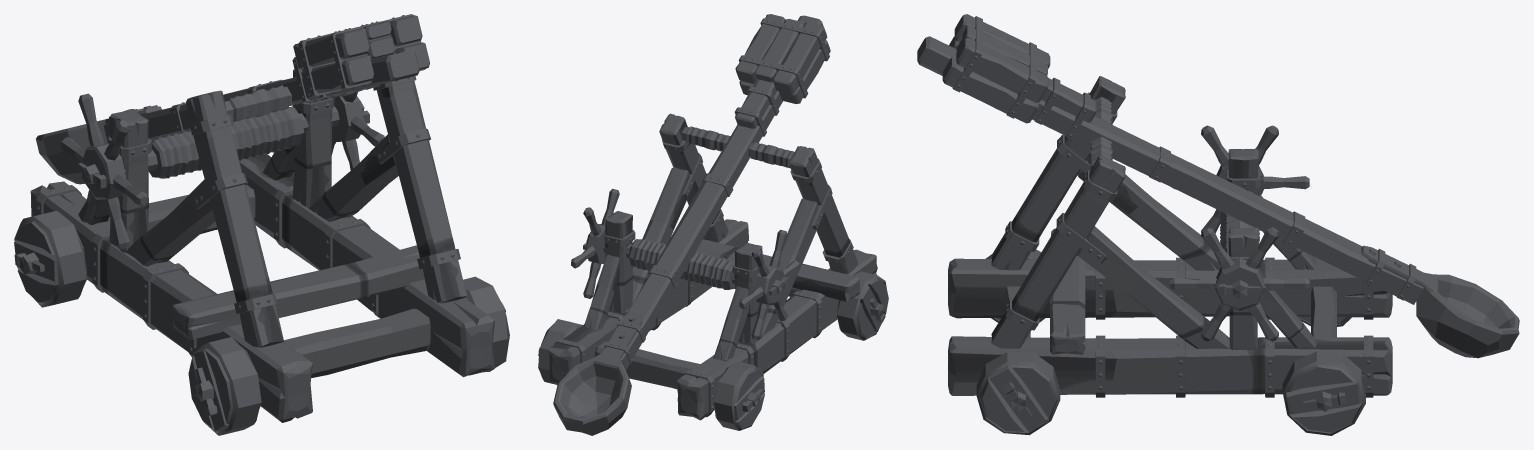
The model's file is kn_catapult.gltf.
The picture shows the model from 3 angles, left to right: view 1: azimuth 30°, elevation 25°; view 2: azimuth 150°, elevation 25°; view 3: azimuth 270°, elevation 25°; orthographic projection. The views are drawn at different scales.
Parts seen in each view (by area): view 1: kn_catapult; view 2: kn_catapult; view 3: kn_catapult.
Boxes of the visible parts, x1=… form: kn_catapult: x1=14, y1=14, x2=509, y2=435; kn_catapult: x1=538, y1=14, x2=888, y2=435; kn_catapult: x1=917, y1=14, x2=1519, y2=435.
Bounding box in the file's own units: 2.77 × 3.46 × 5.44.
Materials: 1 (1 with a texture image).
